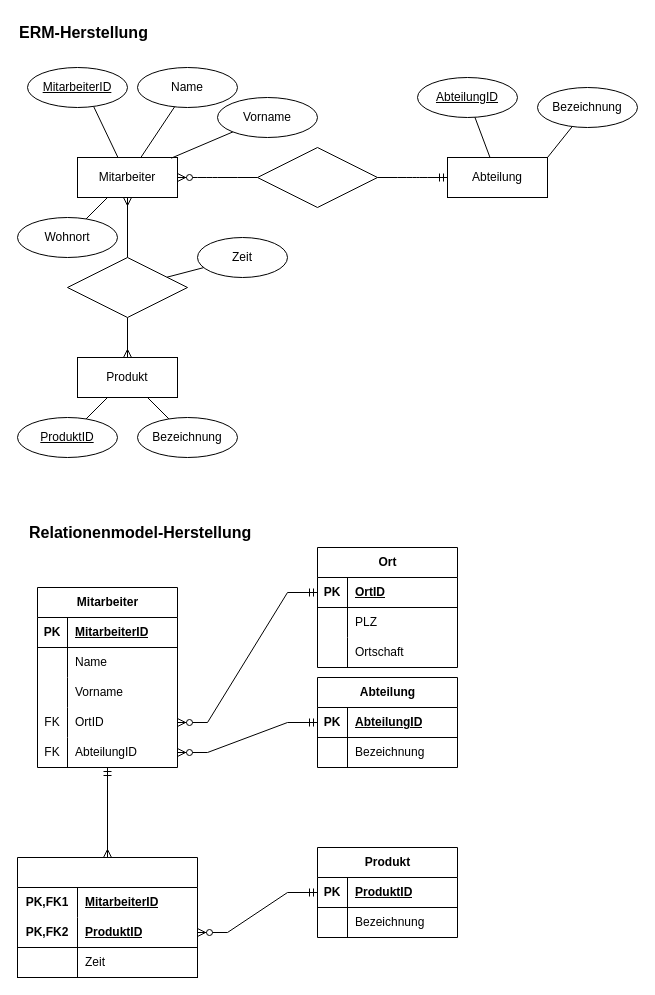
This 655x995 diagram has some shape labels left out. The shapes that lost their labels are listed below. From the top down, each one's box as (x1, y1, x2, y2) in pixels, then its label:
(256, 146, 378, 208): arbeitet
(66, 256, 188, 318): herstellt
(16, 856, 198, 978): Herstellung
